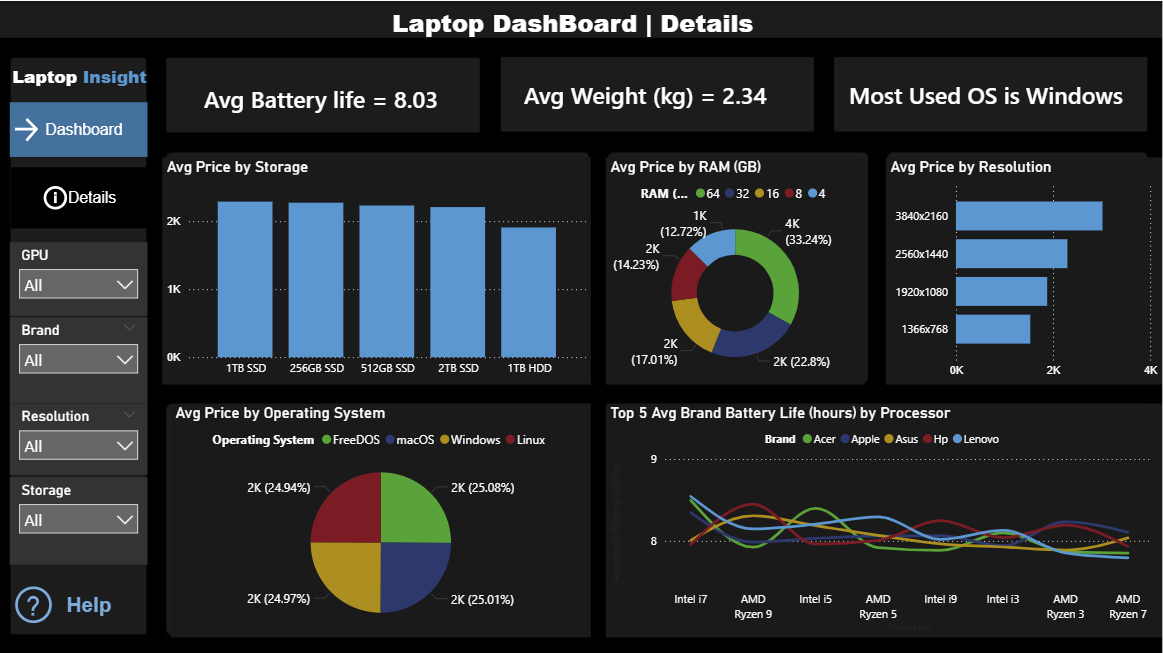

The dashboard page shown, as its layout file describes it:
{"tool":"powerbi","page":{"name":"Page 2","canvas":[1280,720],"ordinal":1},"visuals":[{"type":"actionButton","box":[15.1,111.1,150.9,60.4],"z":0},{"type":"actionButton","box":[16.5,182.5,150.9,67.2],"z":1000},{"type":"textbox","box":[1.4,64.5,181.1,48],"z":2000},{"type":"slicer","fields":{"Values":["laptop_prices.GPU"]},"box":[15.1,264.8,150.9,81],"z":3000},{"type":"slicer","fields":{"Values":["laptop_prices.Brand"]},"box":[15.1,347.2,150.9,94.7],"z":4000},{"type":"slicer","fields":{"Values":["dim_resolution.Resolution"]},"box":[15.1,441.9,150.9,78.2],"z":5000},{"type":"slicer","fields":{"Values":["dim_storage.Storage"]},"box":[15.1,522.8,150.9,96.1],"z":6000},{"type":"actionButton","box":[15.1,636.7,150.9,52.1],"z":7000},{"type":"textbox","box":[313,0,640.8,55],"z":8000},{"type":"donutChart","title":"Avg Price by RAM (GB)","fields":{"Category":["laptop_prices.RAM (GB)"],"Y":["Avg(laptop_prices.Price ($))"]},"box":[669.6,171.5,284,249.7],"z":9000},{"type":"columnChart","title":"Avg Price by Storage","fields":{"Y":["Avg(laptop_prices.Price ($))"],"Category":["dim_storage.Storage"]},"box":[182.5,171.5,470.7,249.7],"z":10000},{"type":"cardVisual","fields":{"Data":["Measure.Battery card"]},"box":[211.3,63.1,301.9,86.4],"z":11000},{"type":"cardVisual","fields":{"Data":["Measure.Avg Weight"]},"box":[562.6,54.9,337.6,94.7],"z":12000},{"type":"pieChart","title":"Avg Price by Operating System","fields":{"Category":["laptop_prices.Operating System"],"Y":["Avg(laptop_prices.Price ($))"]},"box":[192.1,441.9,461.1,256.6],"z":13000},{"type":"clusteredBarChart","title":"Avg Price by Resolution","fields":{"Category":["dim_resolution.Resolution"],"Y":["Avg(laptop_prices.Price ($))"]},"box":[977,171.5,303.3,249.7],"z":14000},{"type":"cardVisual","fields":{"Data":["Measure.Most os"]},"box":[919.4,54.9,341.7,94.7],"z":15000},{"type":"lineChart","title":"Top 5 Avg Brand Battery Life (hours) by Processor","fields":{"Category":["dim_processor.Processor"],"Y":["Avg(laptop_prices.Battery Life (hours))"],"Series":["laptop_prices.Brand"]},"box":[669.6,441.9,610.6,256.6],"z":16000}]}

Visuals, with their boxes in screenshot pixels (x1, y1, x2, y2), scaled from the page's 1280x720 canvas onto the 1163x653 screenshot:
actionButton: [x1=14, y1=101, x2=151, y2=156]
actionButton: [x1=15, y1=166, x2=152, y2=226]
textbox: [x1=1, y1=58, x2=166, y2=102]
slicer - laptop_prices.GPU: [x1=14, y1=240, x2=151, y2=314]
slicer - laptop_prices.Brand: [x1=14, y1=315, x2=151, y2=401]
slicer - dim_resolution.Resolution: [x1=14, y1=401, x2=151, y2=472]
slicer - dim_storage.Storage: [x1=14, y1=474, x2=151, y2=561]
actionButton: [x1=14, y1=577, x2=151, y2=625]
textbox: [x1=284, y1=0, x2=867, y2=50]
"Avg Price by RAM (GB)" donutChart: [x1=608, y1=156, x2=866, y2=382]
"Avg Price by Storage" columnChart: [x1=166, y1=156, x2=593, y2=382]
cardVisual - Measure.Battery card: [x1=192, y1=57, x2=466, y2=136]
cardVisual - Measure.Avg Weight: [x1=511, y1=50, x2=818, y2=136]
"Avg Price by Operating System" pieChart: [x1=175, y1=401, x2=593, y2=634]
"Avg Price by Resolution" clusteredBarChart: [x1=888, y1=156, x2=1162, y2=382]
cardVisual - Measure.Most os: [x1=835, y1=50, x2=1146, y2=136]
"Top 5 Avg Brand Battery Life (hours) by Processor" lineChart: [x1=608, y1=401, x2=1162, y2=634]
